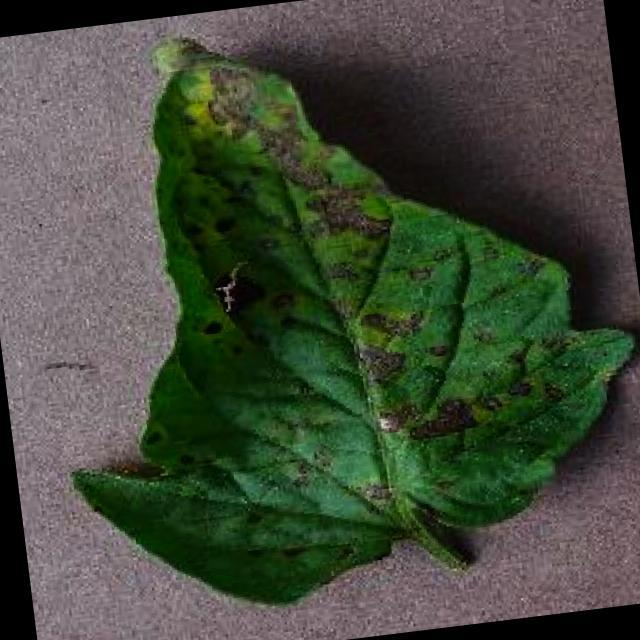Tomato Early blight leaf: (23, 0, 640, 631)
